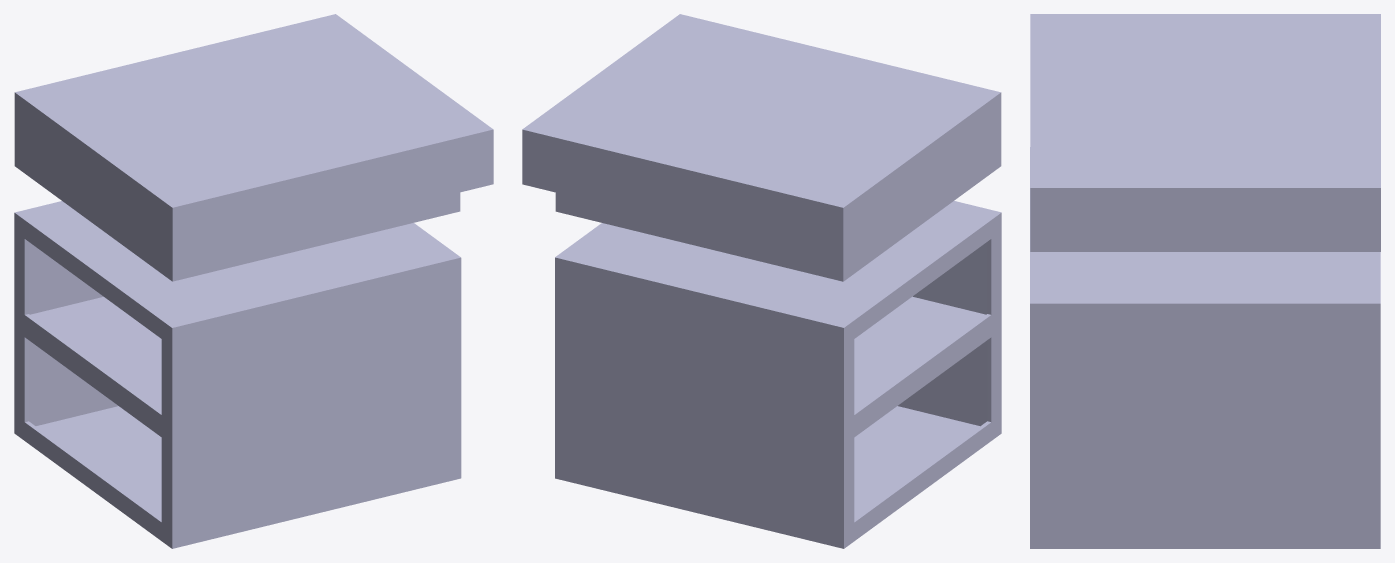
File: SM_Counter_Bar_v2.fbx
The picture shows the model from 3 angles, left to right: view 1: azimuth 30°, elevation 25°; view 2: azimuth 150°, elevation 25°; view 3: azimuth 270°, elevation 25°; orthographic projection. The views are drawn at different scales.
Visible parts, largest first — view 1: Side_SGCabinet_R.BOTTOM, Side_SGCabinet_R.TOP; view 2: Side_SGCabinet_R.BOTTOM, Side_SGCabinet_R.TOP; view 3: Side_SGCabinet_R.BOTTOM, Side_SGCabinet_R.TOP.
Part boxes in pixels (x1=…): Side_SGCabinet_R.BOTTOM: x1=14, y1=201, x2=461, y2=548; Side_SGCabinet_R.TOP: x1=14, y1=14, x2=493, y2=281; Side_SGCabinet_R.BOTTOM: x1=555, y1=201, x2=1001, y2=548; Side_SGCabinet_R.TOP: x1=522, y1=14, x2=1001, y2=281; Side_SGCabinet_R.BOTTOM: x1=1030, y1=147, x2=1380, y2=548; Side_SGCabinet_R.TOP: x1=1030, y1=14, x2=1380, y2=251.
Bounding box in the file's own units: 235 × 238 × 200.
